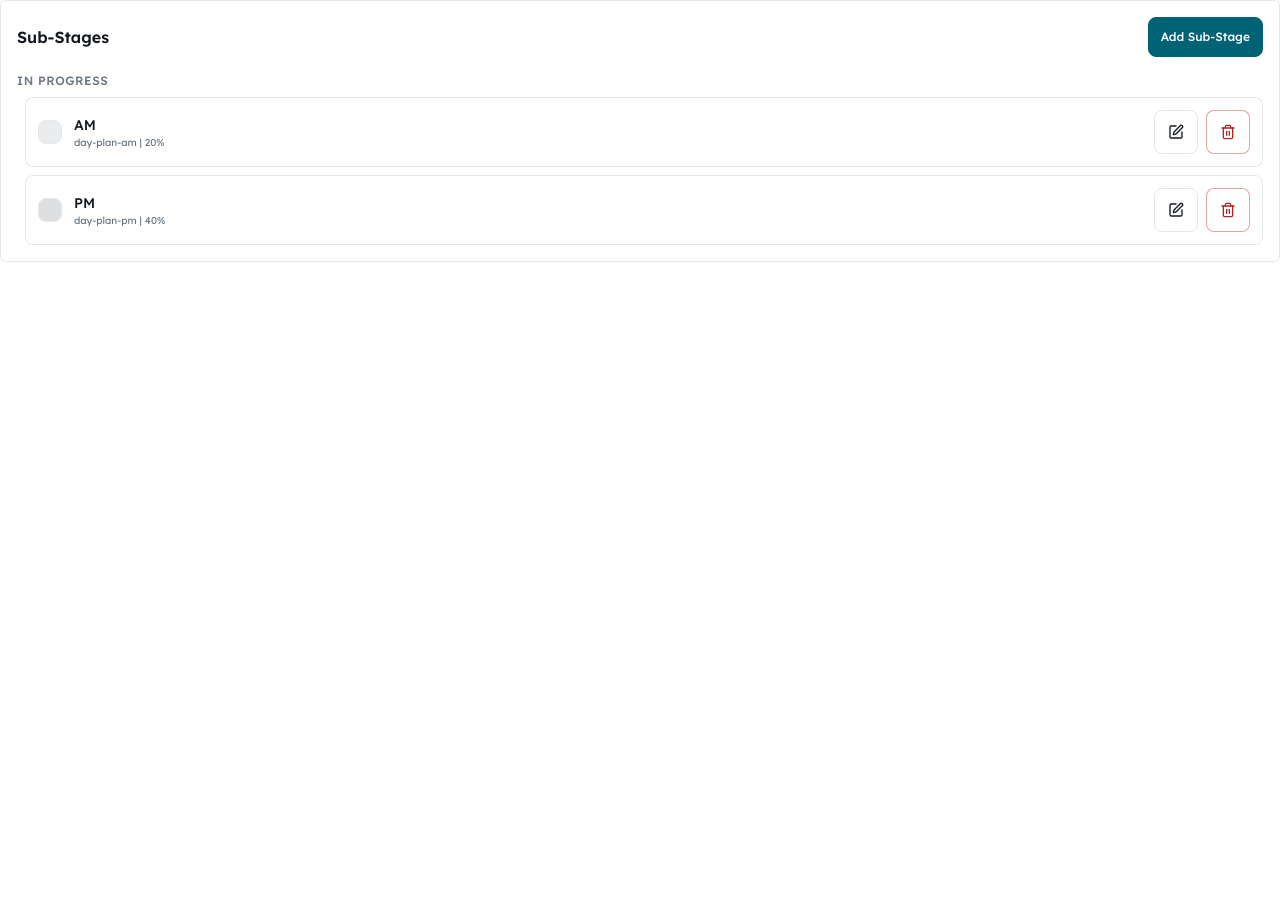
Test case: SubStageSection › offers a Shade slider with a live preview in place of the background-class box
The width and height of the screenshot is (1280, 900).
Click the button with test id "button-add-sub-stage": [1205, 37] box [1148,17,1263,57]
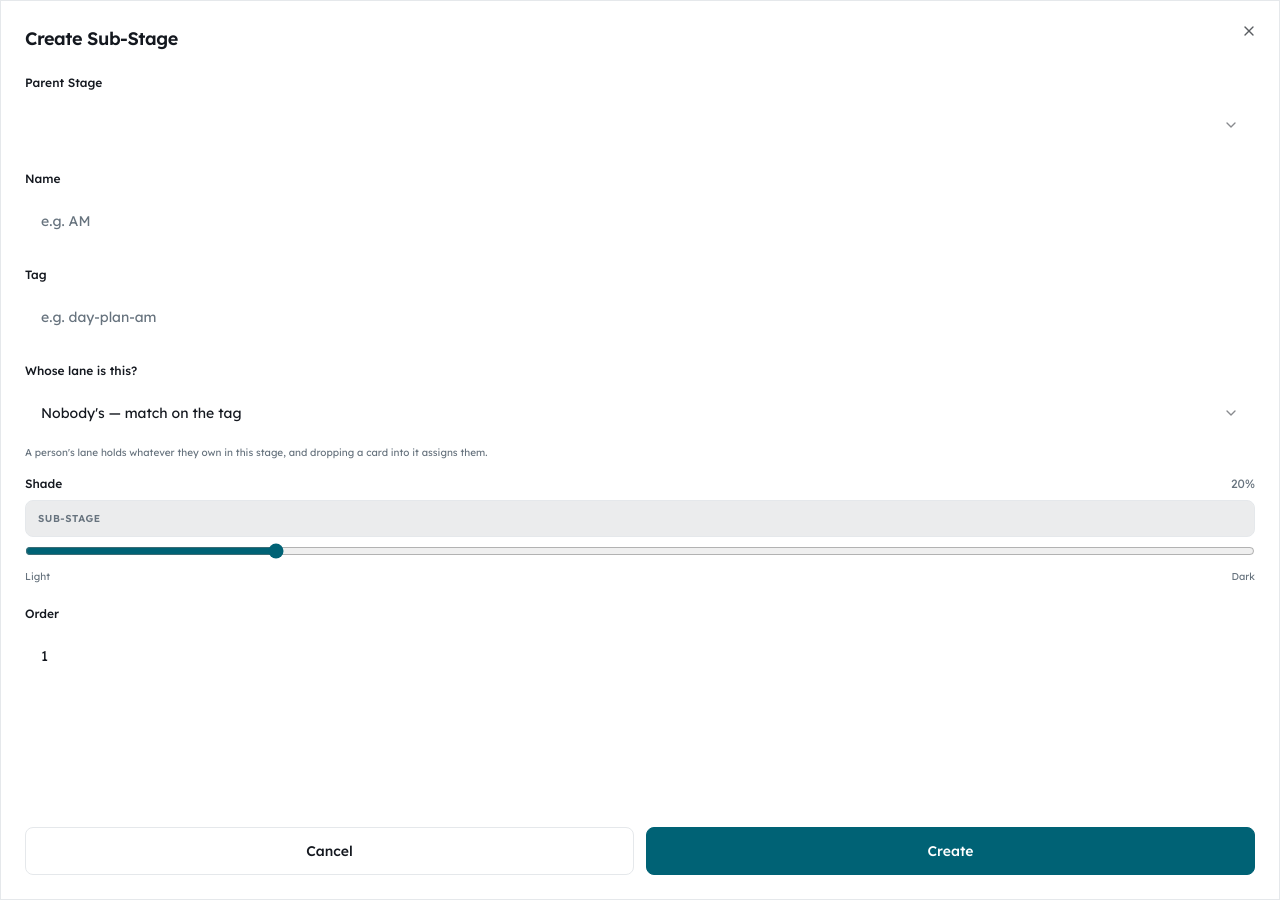
Now the slider holds "20"
Now the text "Shade" is shown, box [25,476,62,492]
Now the text with test id "shade-value" reads "20%", box [1231,476,1255,492]
Set the slider to "60": [761, 551] box [25,547,1255,555]
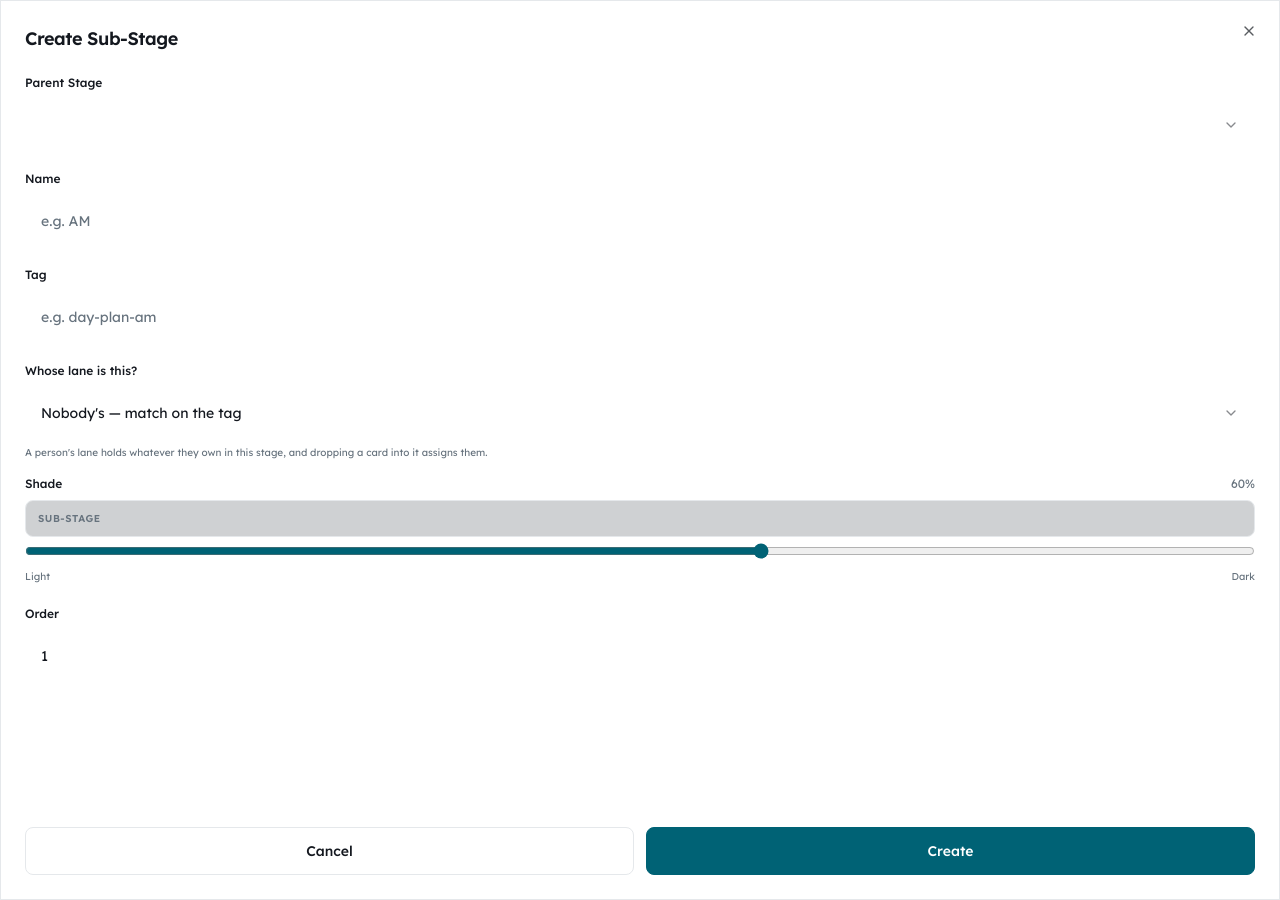
Now the text with test id "shade-value" reads "60%", box [1231,476,1255,492]
# The preview names the lane as it is typed.
In the field with placeholder "e.g. AM": [640, 221] box [25,197,1255,245], type "Waiting"
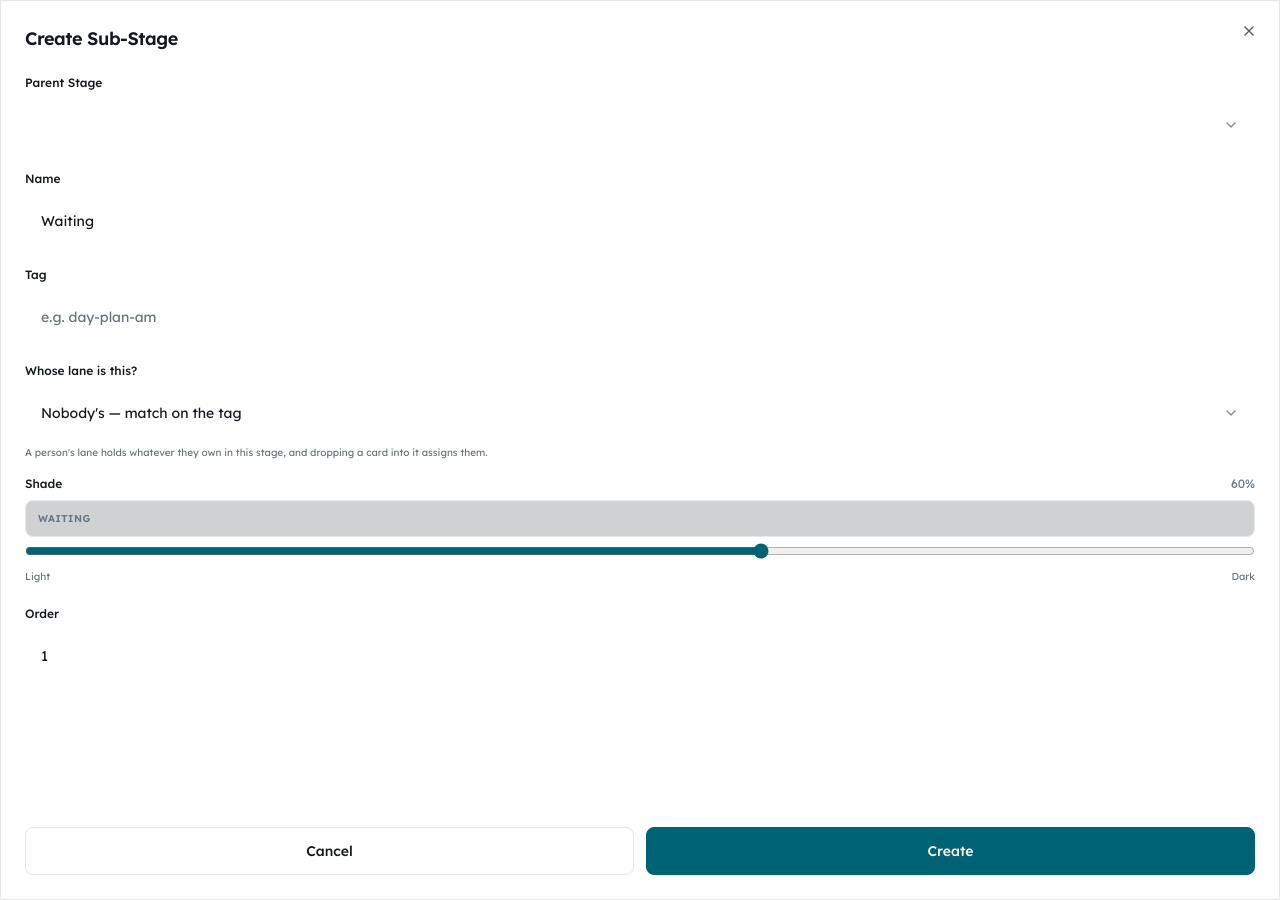
Now the element with test id "shade-preview" reads "Waiting", box [38,512,91,525]
